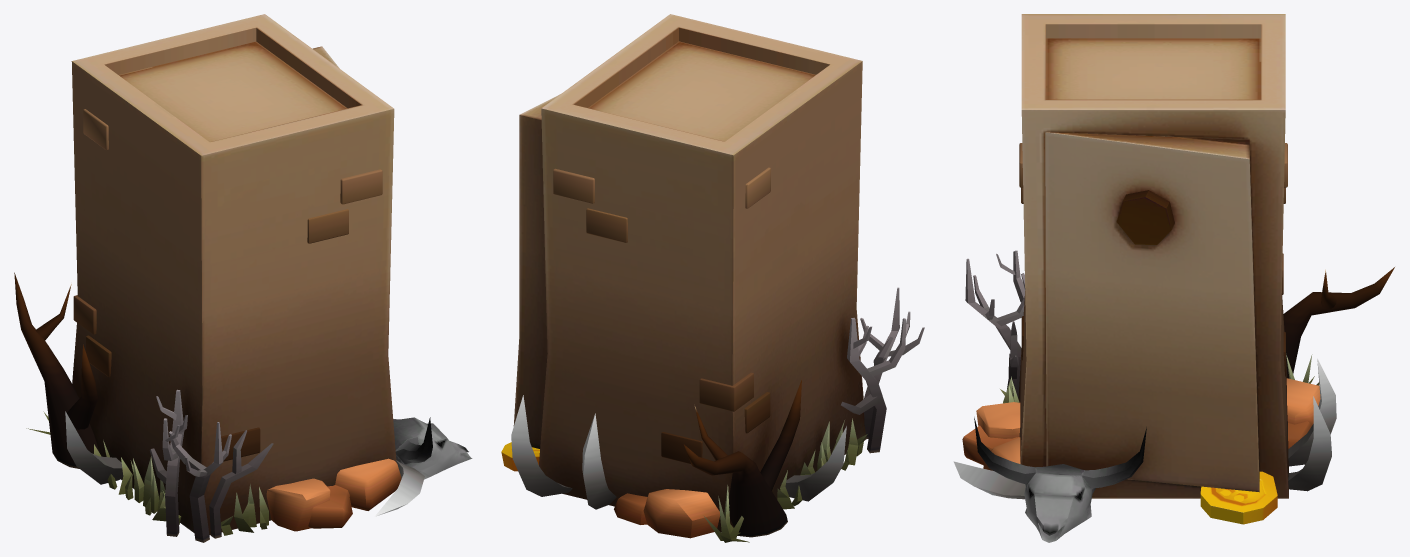
Rendered from Vault Desert.obj.
The picture shows the model from 3 angles, left to right: view 1: azimuth 30°, elevation 25°; view 2: azimuth 150°, elevation 25°; view 3: azimuth 270°, elevation 25°; orthographic projection. The views are drawn at different scales.
Parts seen in each view (by area): view 1: VaultDesert1; view 2: VaultDesert1; view 3: VaultDesert1.
Boxes of the visible parts, bbox=[...] form: VaultDesert1: bbox=[14, 14, 472, 542]; VaultDesert1: bbox=[501, 14, 924, 542]; VaultDesert1: bbox=[953, 14, 1394, 542].
Size of the model in its own units: 10.78 by 11.42 by 11.79.
1 material, 1 textured.
